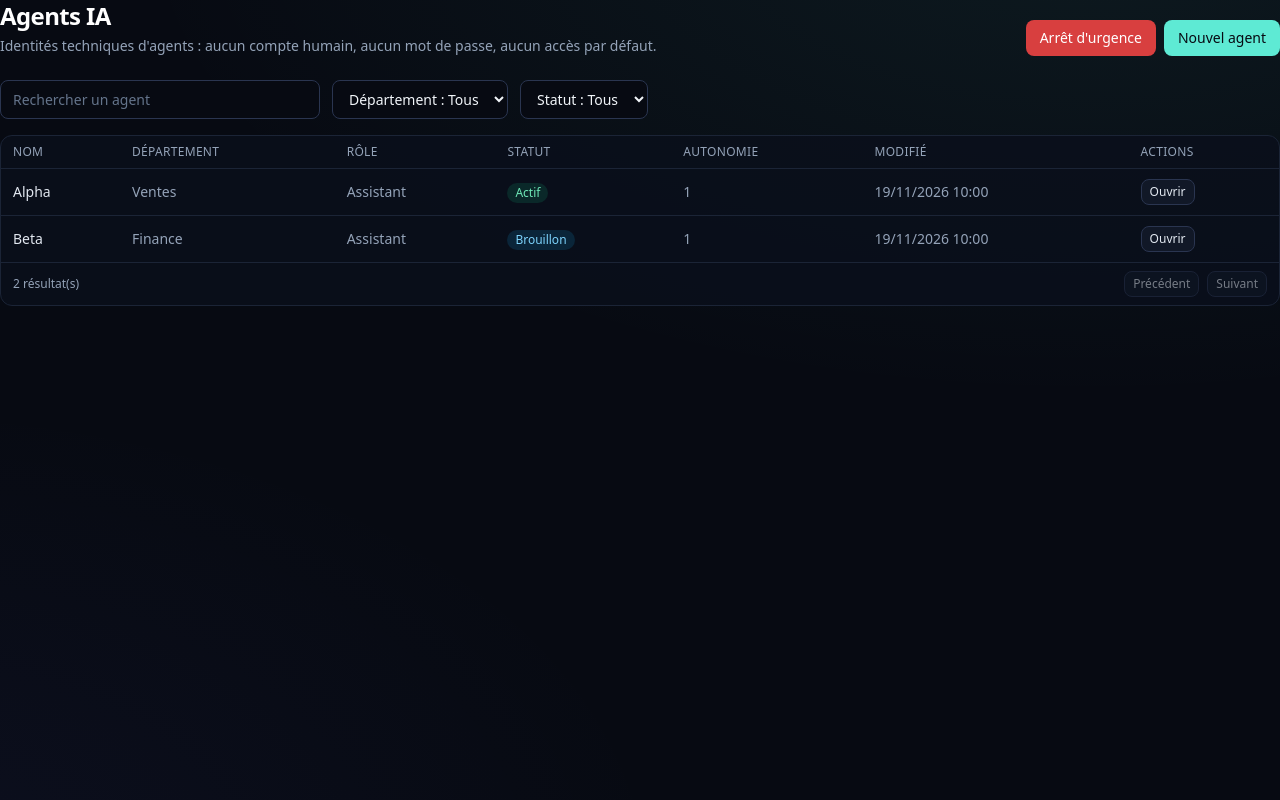
Test: AgentsView › arrêt d'urgence : confirmation puis POST, résultat réel affiché
Expected: the text "Alpha" is shown, [1,168,120,216]
Click the button "Arrêt d'urgence": x=1091, y=38 [1026,20,1156,56]
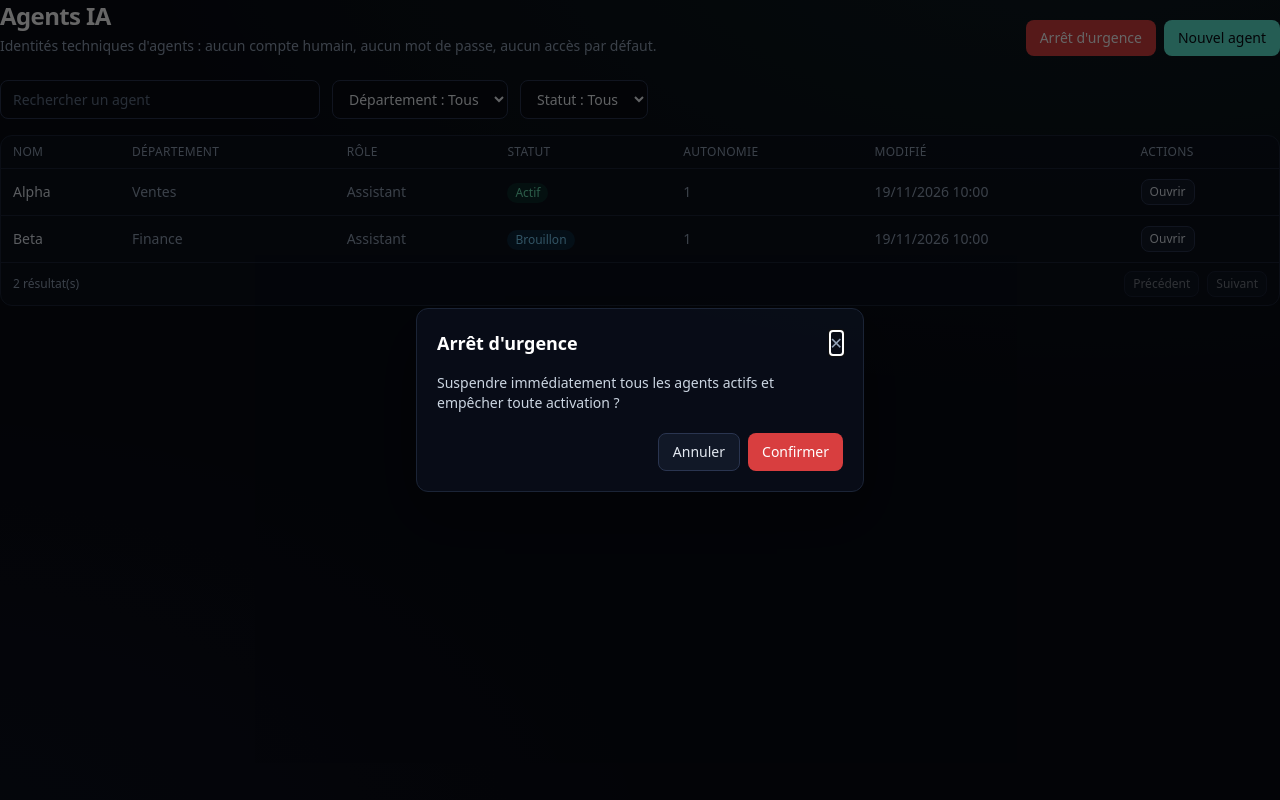
Click the button "Confirmer": x=796, y=452 [748,433,843,471]
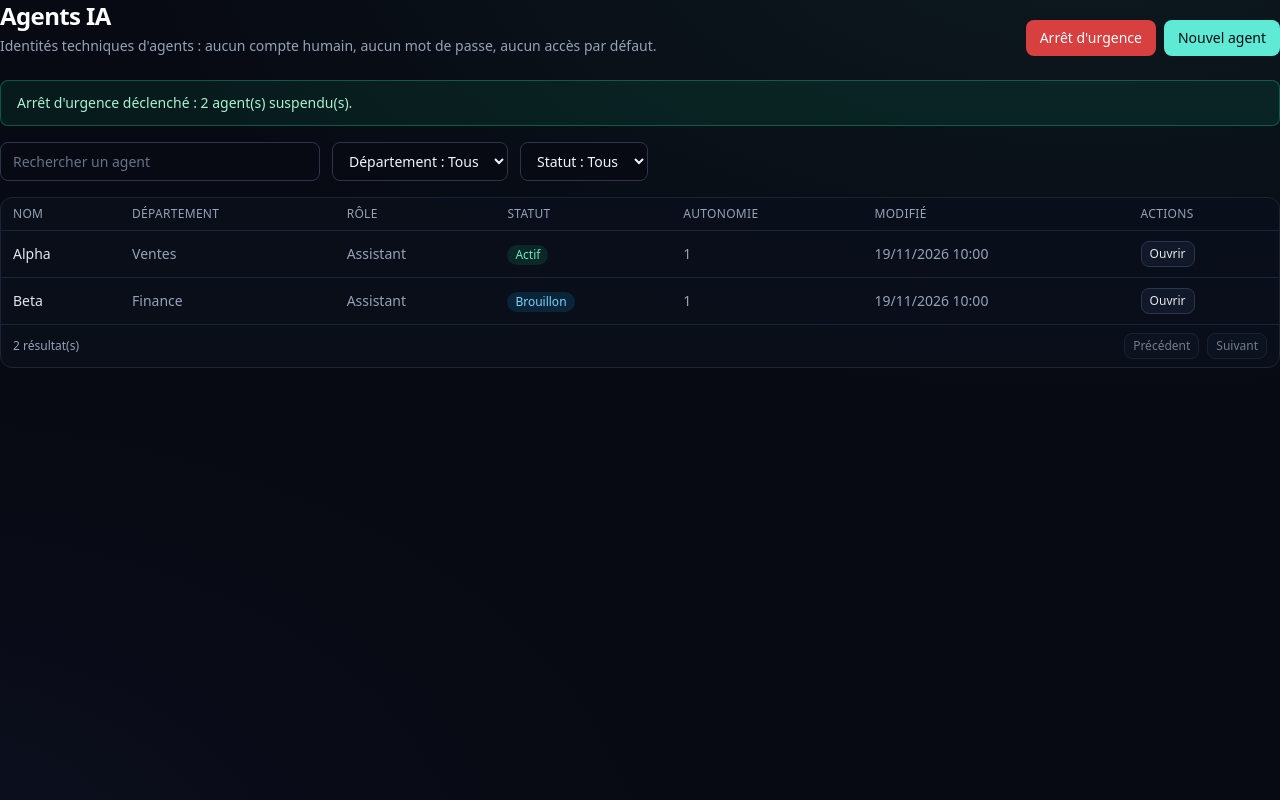
Expected: the text "Arrêt d'urgence déclenché : 2 agent(s) suspendu(s)." is shown, [0,80,1279,126]
